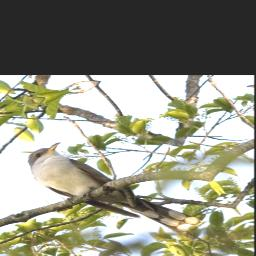Cuckoo: (14, 124, 206, 256)
